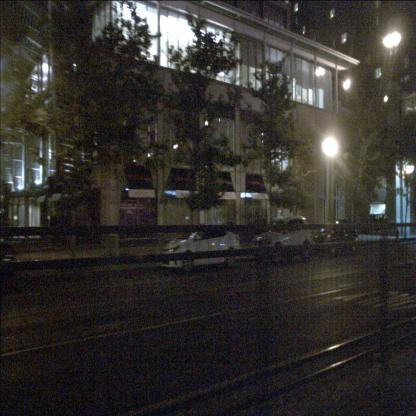human-pedestrian-adult: (50, 205, 59, 251), (60, 208, 69, 252)
vehicle-car: (161, 223, 242, 273), (252, 216, 313, 266), (314, 219, 358, 258)
